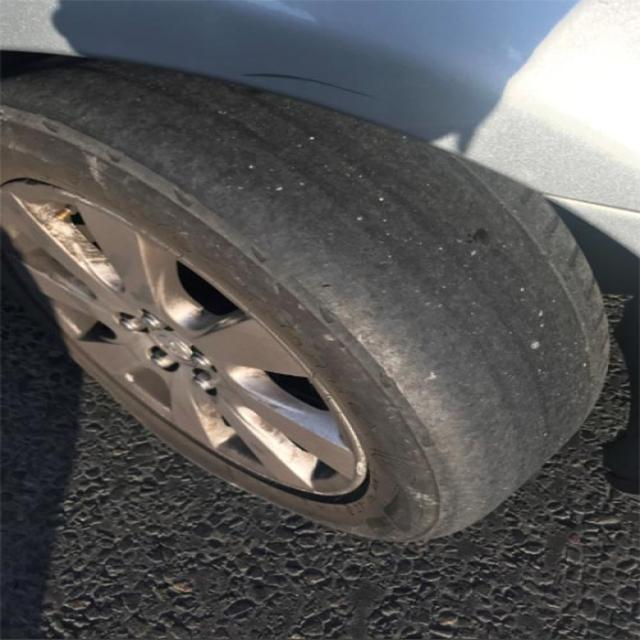Flat spots: (407, 196, 554, 434), (260, 135, 387, 275)
